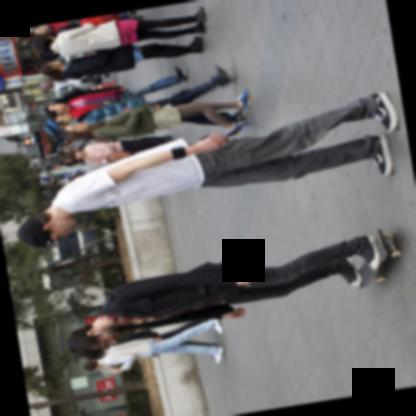handbag: (106, 150, 132, 161)
